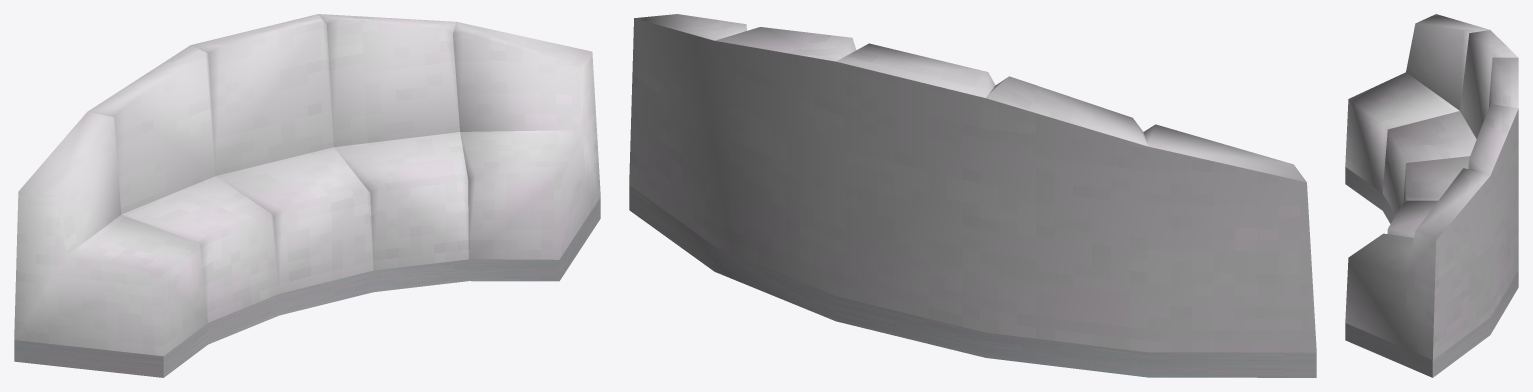
The model's file is frn_all_mdrn_couch_s01_l2.fbx.
3 views of the same model, side by side, from view 1: azimuth 30°, elevation 25°; view 2: azimuth 150°, elevation 25°; view 3: azimuth 270°, elevation 25° (orthographic). The views are drawn at different scales.
Parts seen in each view (by area): view 1: mesh_node; view 2: mesh_node; view 3: mesh_node.
Part boxes in pixels (left/top/right/bottom): mesh_node: left=14, top=14, right=600, bottom=377; mesh_node: left=629, top=14, right=1316, bottom=377; mesh_node: left=1345, top=14, right=1518, bottom=377.
Size of the model in its own units: 4.32 by 1.61 by 1.37.
